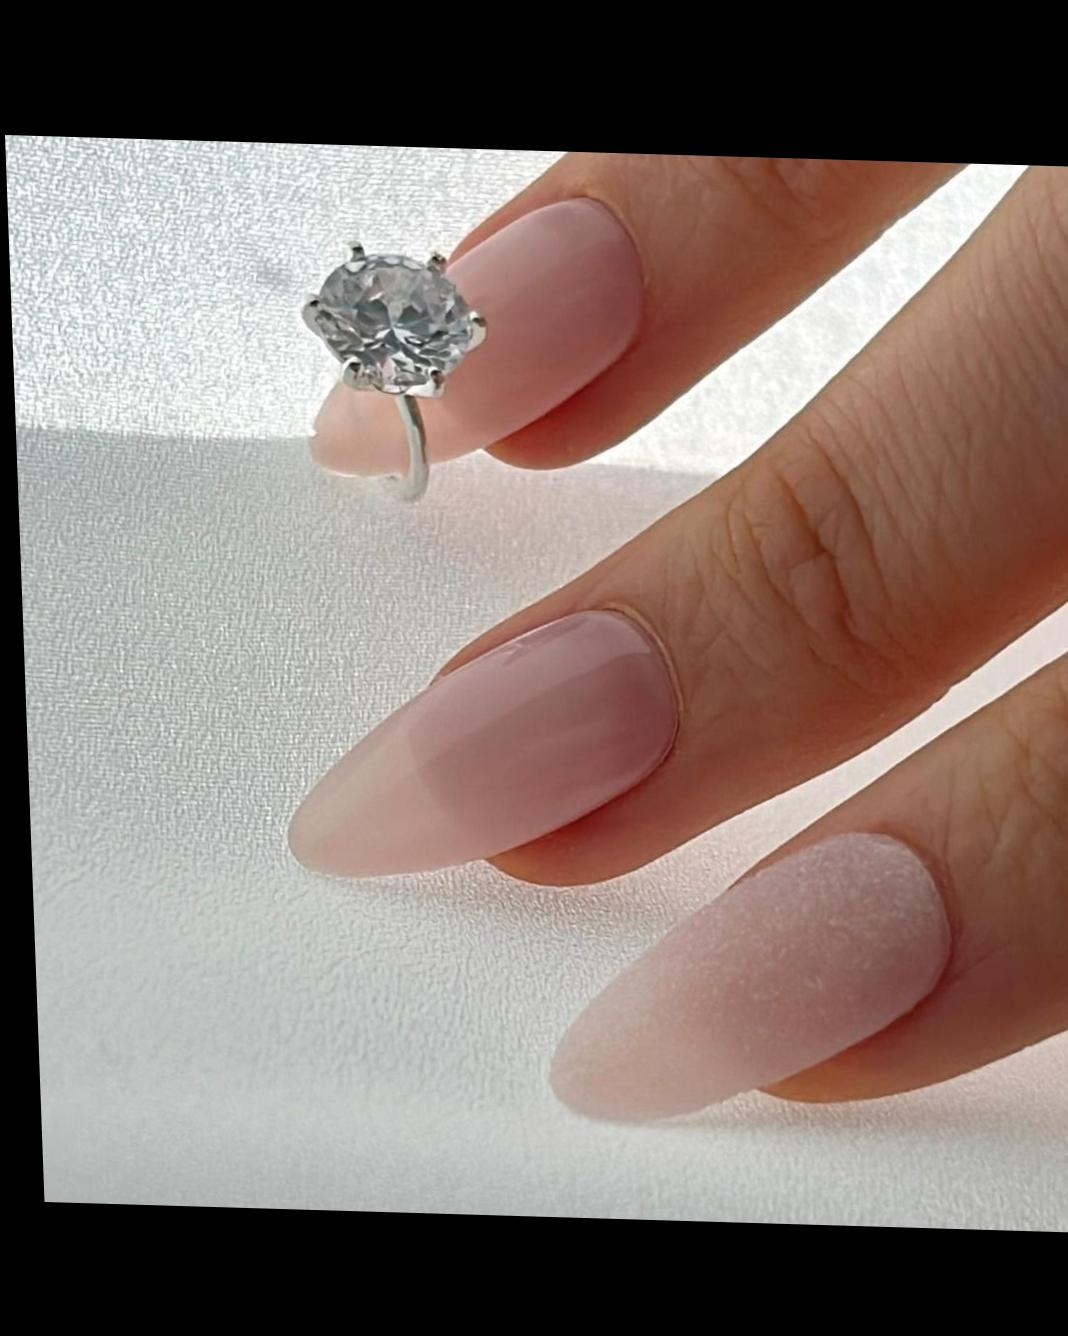nail: (536, 817, 961, 1134), (275, 589, 689, 888), (294, 184, 652, 506)
